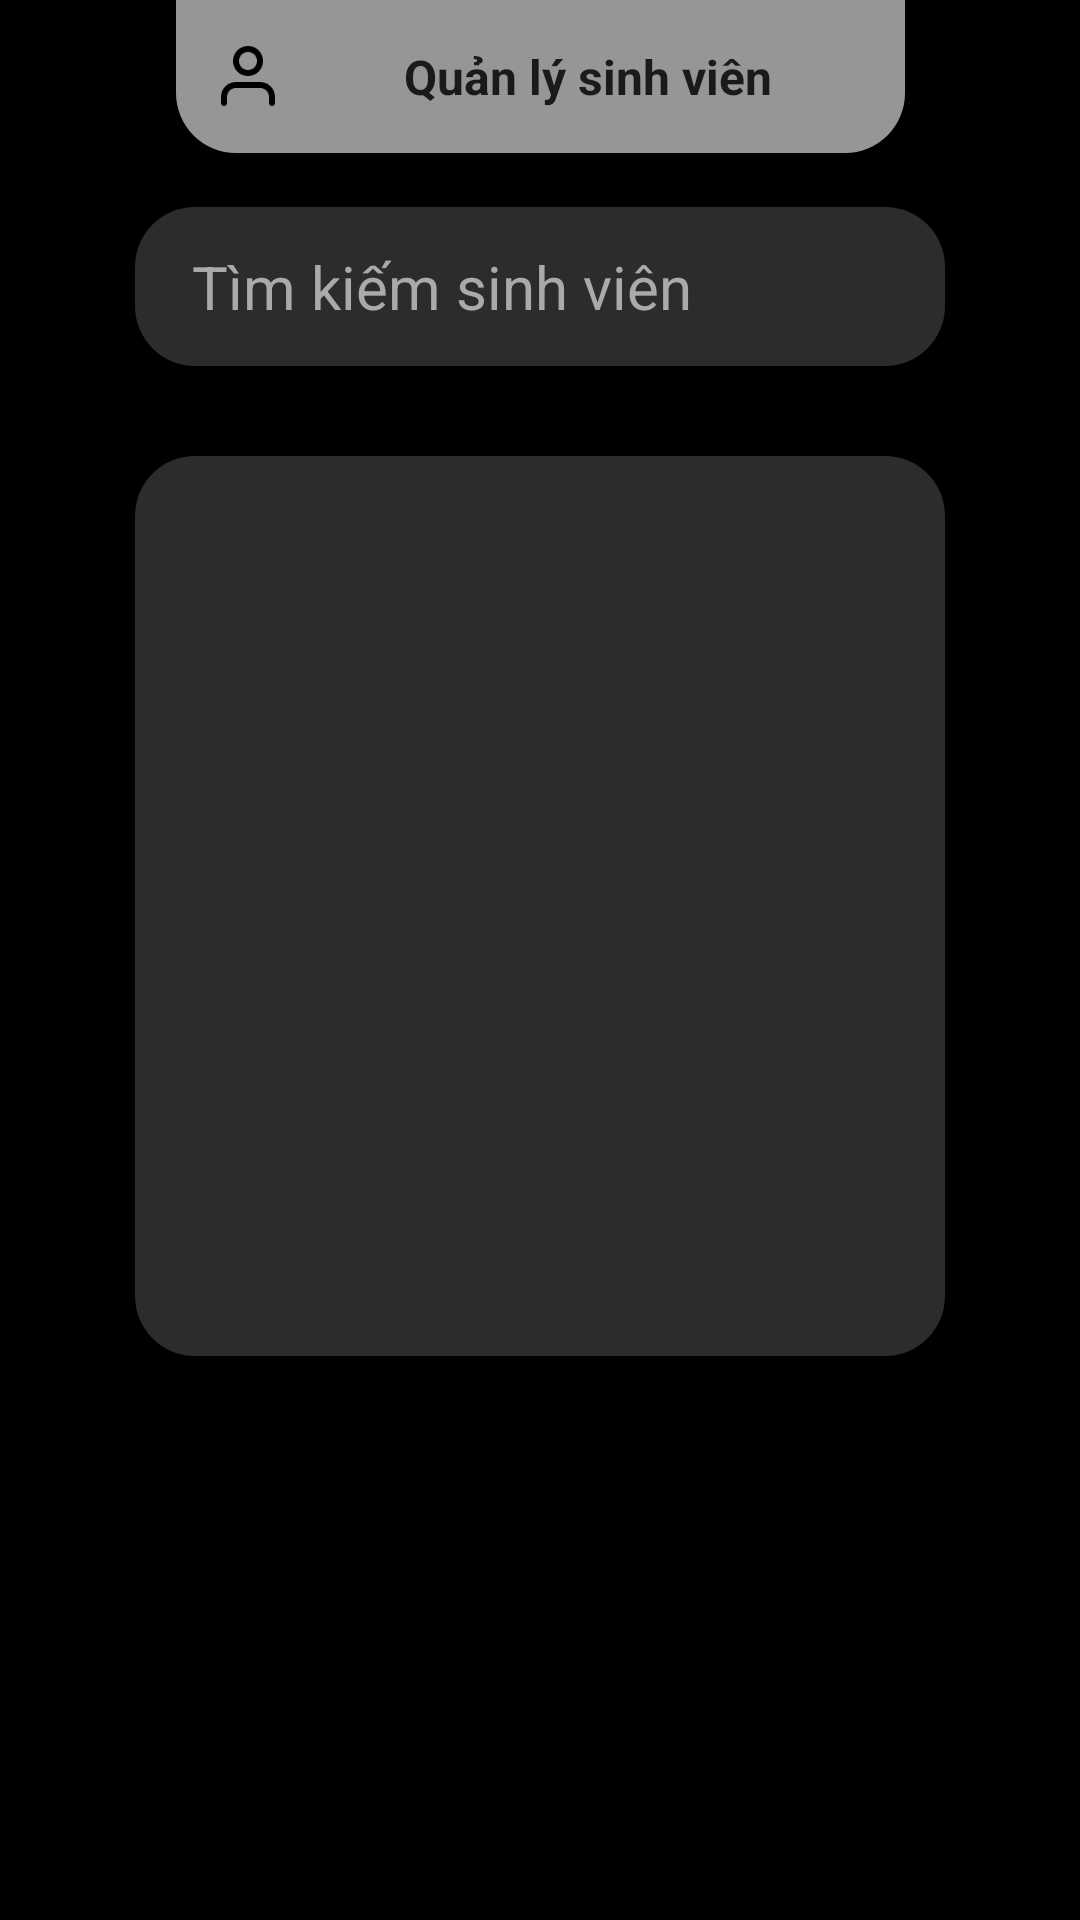

Icons on this 1080 x 1920 Android screen, each with its box as [x1,y1,x2,y2]:
userimg: [221,46,275,106]
